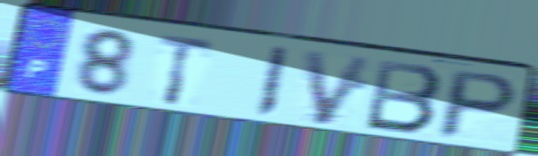8: (75, 27, 141, 99)
B: (362, 57, 446, 137)
I: (251, 44, 293, 121)
P: (433, 68, 523, 142)
T: (155, 31, 217, 109)
V: (300, 48, 376, 128)
